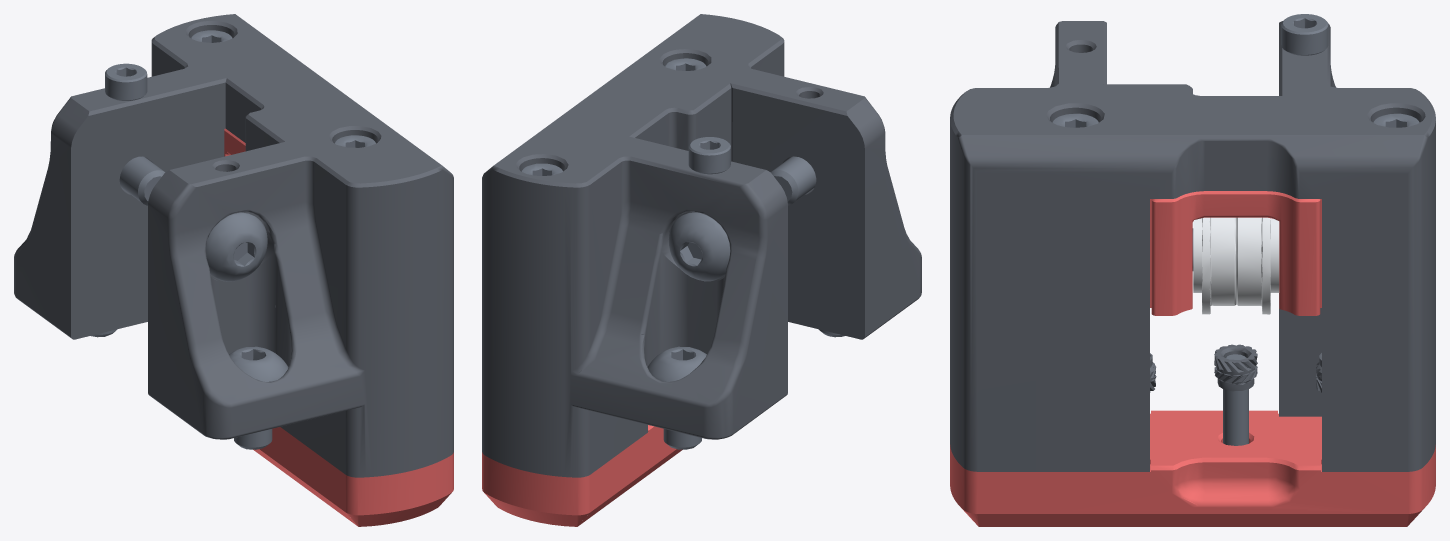
The picture shows the model from 3 angles, left to right: view 1: azimuth 30°, elevation 25°; view 2: azimuth 150°, elevation 25°; view 3: azimuth 270°, elevation 25°; orthographic projection. The views are drawn at different scales.
Parts seen in each view (by area): view 1: idler_housing_x2, [a]_idler_front_x2, m5x10_bhcs__2__5, m5x10_bhcs__2_, m3x8_shcs__2_, m5x10_bhcs__2__4; view 2: idler_housing_x2, [a]_idler_front_x2, m5x10_bhcs__2__4, m5x10_bhcs__2__3, m3x8_shcs__2_, m5x10_bhcs__2__5; view 3: idler_housing_x2, [a]_idler_front_x2, [a]_idler_carrier_a_x2, f695_zz__2_, f695_zz__2__21, m3x8_shcs__2_, m3_heat_set__3_, m3x16_shcs__1_, m5_1mm_spacer__2_, m5_1mm_spacer__2__22.
Boxes of the visible parts, box(x1,y1,x2,y2) form: idler_housing_x2: box(14, 14, 453, 477); [a]_idler_front_x2: box(253, 427, 453, 526); m5x10_bhcs__2__5: box(205, 212, 267, 281); m5x10_bhcs__2_: box(229, 346, 288, 449); m3x8_shcs__2_: box(105, 63, 147, 100); m5x10_bhcs__2__4: box(119, 156, 165, 205); idler_housing_x2: box(482, 14, 921, 477); [a]_idler_front_x2: box(482, 425, 682, 526); m5x10_bhcs__2__4: box(669, 212, 730, 281); m5x10_bhcs__2__3: box(647, 346, 706, 449); m3x8_shcs__2_: box(688, 137, 730, 174); m5x10_bhcs__2__5: box(770, 156, 816, 205); idler_housing_x2: box(950, 21, 1435, 471); [a]_idler_front_x2: box(950, 410, 1435, 526); [a]_idler_carrier_a_x2: box(1150, 191, 1321, 315); f695_zz__2_: box(1236, 217, 1270, 314); f695_zz__2__21: box(1202, 217, 1236, 314); m3x8_shcs__2_: box(1281, 14, 1328, 55); m3_heat_set__3_: box(1214, 344, 1257, 391); m3x16_shcs__1_: box(1223, 354, 1248, 445); m5_1mm_spacer__2_: box(1270, 218, 1279, 292); m5_1mm_spacer__2__22: box(1193, 218, 1201, 292).
Size of the model in its own units: 0.037 by 0.0532 by 0.0565.
